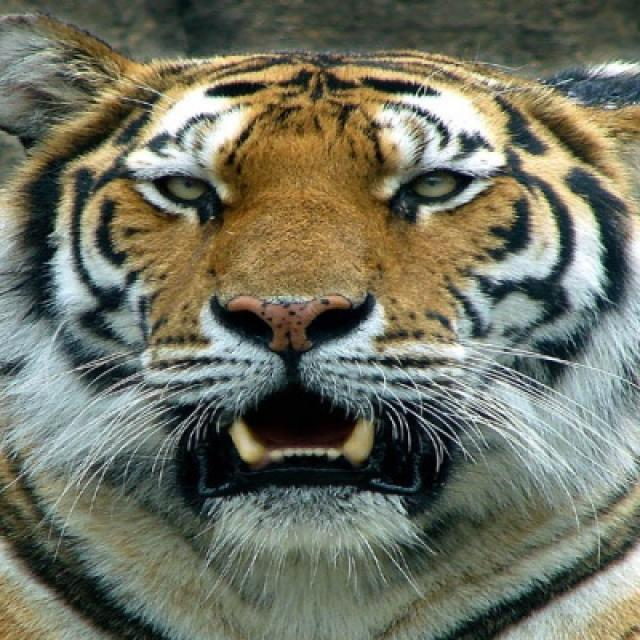Tiger: (0, 14, 635, 638)
